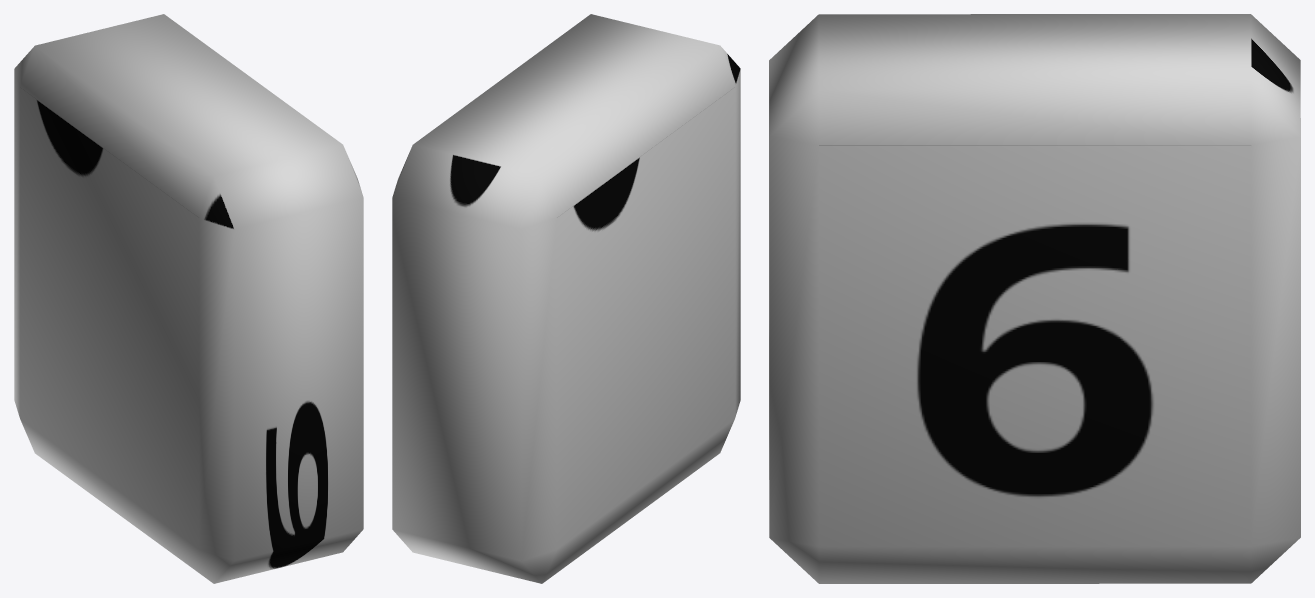
Rendered from Boton6.fbx.
The picture shows the model from 3 angles, left to right: view 1: azimuth 30°, elevation 25°; view 2: azimuth 150°, elevation 25°; view 3: azimuth 270°, elevation 25°; orthographic projection. The views are drawn at different scales.
Visible parts, largest first — view 1: Boton6; view 2: Boton6; view 3: Boton6.
Part boxes in pixels (left/top/right/bottom): Boton6: left=14, top=14, right=363, bottom=583; Boton6: left=392, top=14, right=740, bottom=583; Boton6: left=769, top=14, right=1300, bottom=583.
Bounding box in the file's own units: 1.36 × 3.32 × 3.25.
